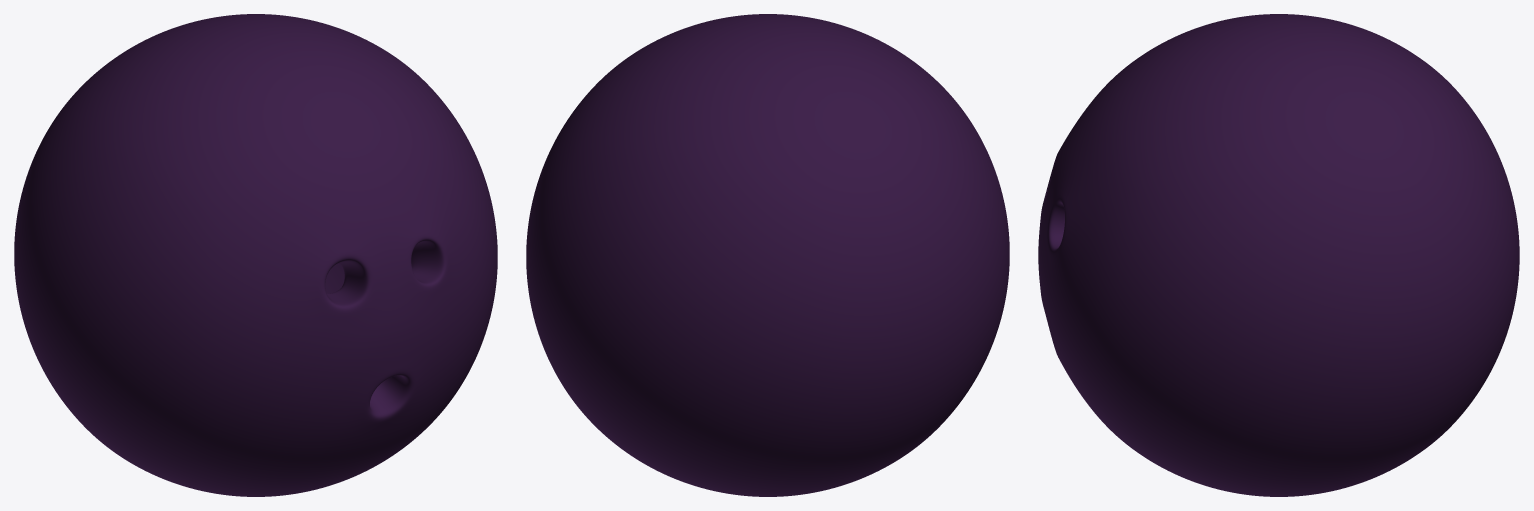
The model's file is boladebolos.fbx.
3 renders of one model, left to right at view 1: azimuth 30°, elevation 25°; view 2: azimuth 150°, elevation 25°; view 3: azimuth 270°, elevation 25°, orthographic.
Parts seen in each view (by area): view 1: Cube; view 2: Cube; view 3: Cube.
Boxes of the visible parts, box(x1,y1,x2,y2) form: Cube: box(14, 14, 497, 496); Cube: box(526, 14, 1009, 496); Cube: box(1038, 14, 1519, 496).
Bounding box in the file's own units: 0.3704 × 0.3704 × 0.3704.
